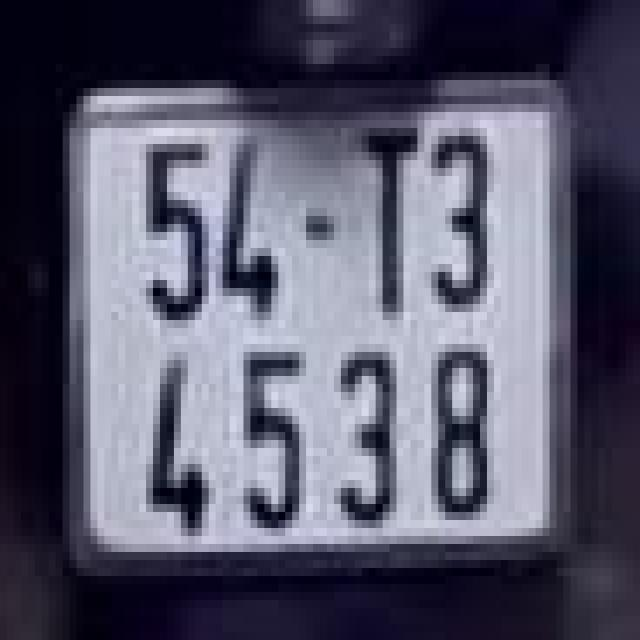3: (334, 336, 410, 528), (428, 124, 497, 324)
4: (136, 336, 219, 536), (219, 128, 289, 336)
5: (136, 124, 219, 332)
6: (233, 344, 317, 528)
8: (424, 328, 501, 528)
T: (341, 116, 424, 324)
